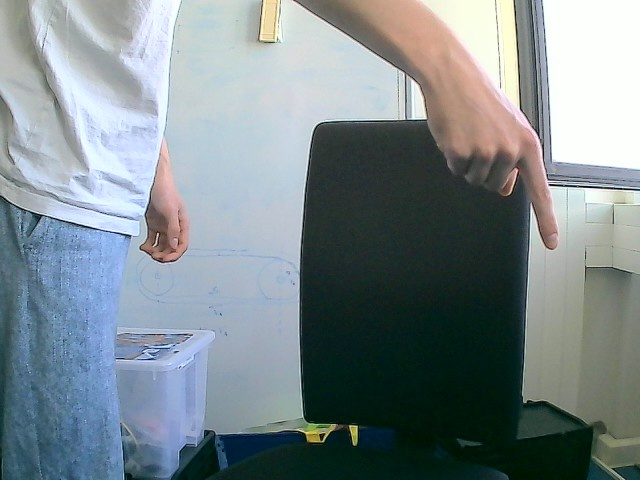down: (421, 73, 560, 251)
no_gesture: (141, 194, 191, 262)
